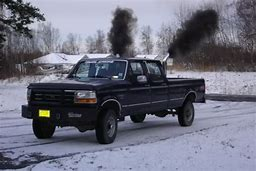smoke: (167, 7, 216, 57), (104, 6, 133, 51)
